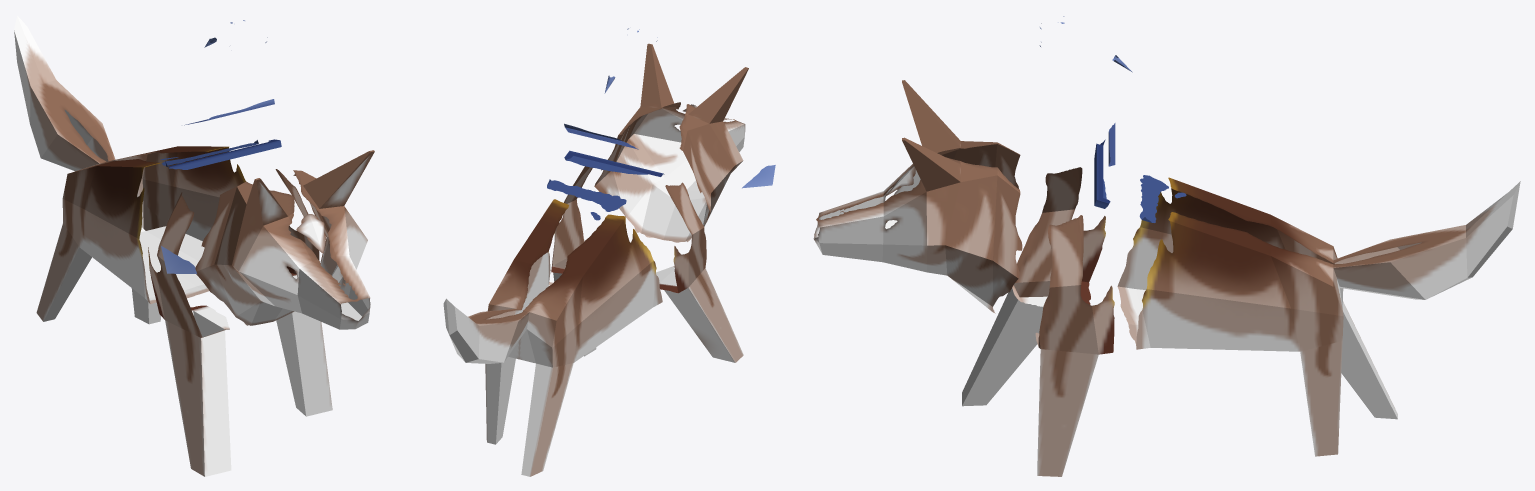
Rendered from AO_lupus.fbx.
3 views of the same model, side by side, from view 1: azimuth 30°, elevation 25°; view 2: azimuth 150°, elevation 25°; view 3: azimuth 270°, elevation 25° (orthographic). The views are drawn at different scales.
Parts seen in each view (by area): view 1: STP_dog_body, STP_Dog_bag, LupusHat; view 2: STP_dog_body, STP_Dog_bag, LupusHat; view 3: STP_dog_body, STP_Dog_bag.
Boxes of the visible parts, x1=… form: STP_dog_body: x1=14, y1=16, x2=374, y2=476; STP_Dog_bag: x1=160, y1=99, x2=281, y2=169; LupusHat: x1=161, y1=20, x2=267, y2=274; STP_dog_body: x1=443, y1=43, x2=748, y2=476; STP_Dog_bag: x1=547, y1=123, x2=664, y2=220; LupusHat: x1=604, y1=28, x2=775, y2=188; STP_dog_body: x1=813, y1=80, x2=1520, y2=476; STP_Dog_bag: x1=1094, y1=123, x2=1186, y2=222.
Size of the model in its own units: 21.42 by 34.99 by 53.88.
1 material, 1 textured.
